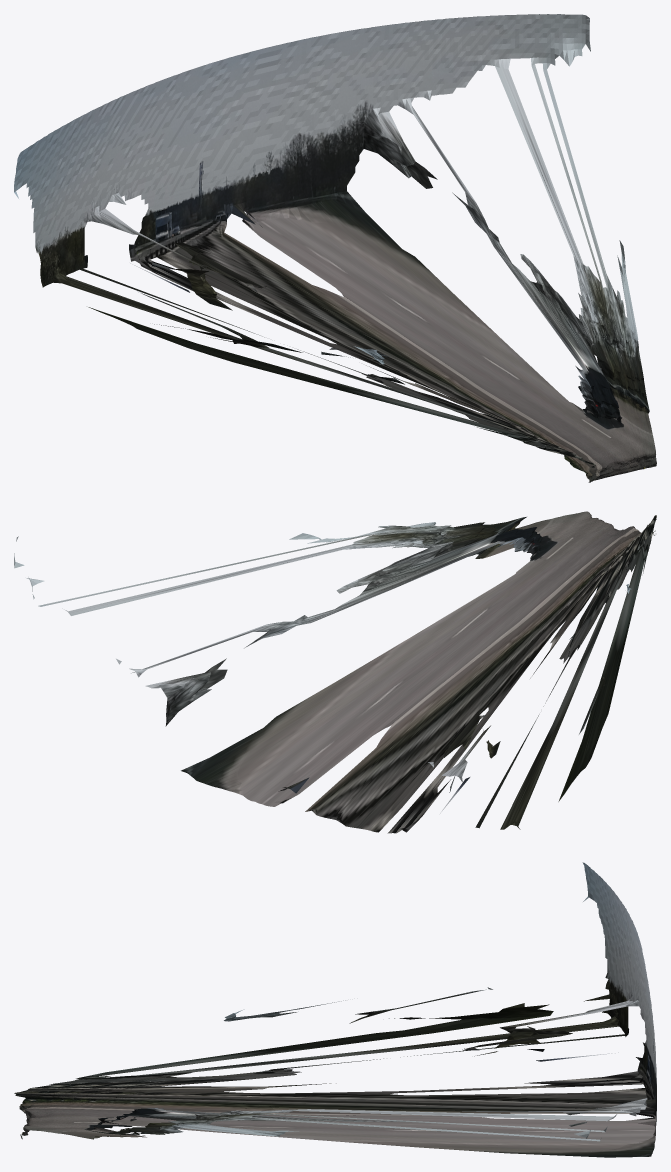
The picture shows the model from 3 angles, top to bottom: view 1: azimuth 30°, elevation 25°; view 2: azimuth 150°, elevation 25°; view 3: azimuth 270°, elevation 25°; orthographic projection. The views are drawn at different scales.
Visible parts, largest first — view 1: defaultobject; view 2: defaultobject; view 3: defaultobject.
Part boxes in pixels (<box>): defaultobject: <box>14,14,656,482</box>; defaultobject: <box>14,511,656,833</box>; defaultobject: <box>14,862,656,1157</box>.
Size of the model in its own units: 40.69 by 12.51 by 44.8.
Materials: 1 (1 with a texture image).
